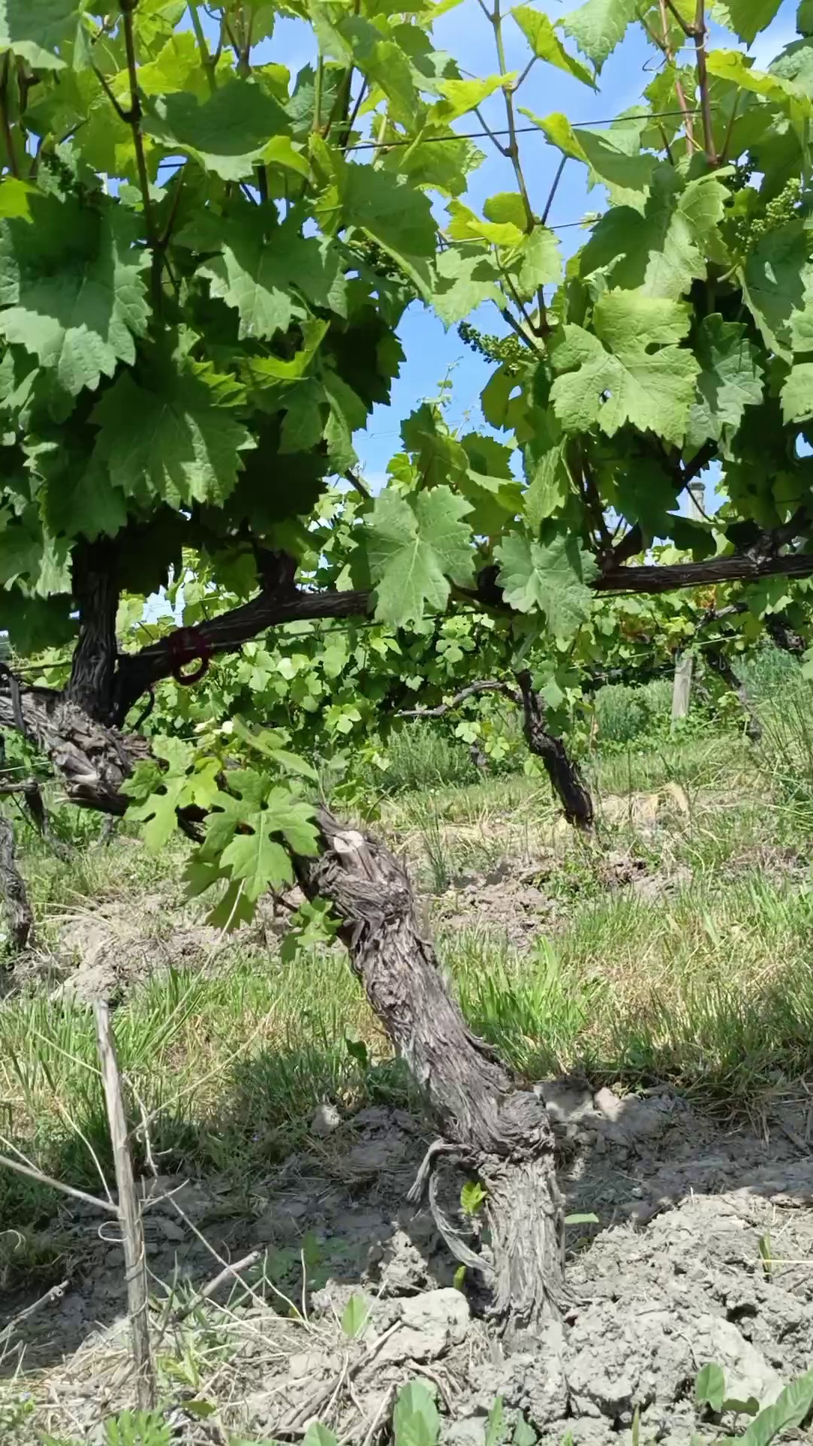vine_trunk: (297, 809, 565, 1329)
